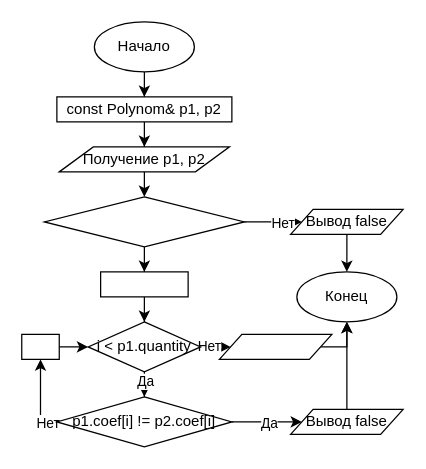
The diagram is 426 pixels wide and 469 high, and some of its shapes have lost their labels. The centre of each missing label's shape, as x and y in pixels:
"i++" belongs at [39,346].
"p1.quantity != p2.quantity" belongs at [143,221].
"Вывод true" belongs at [275,346].
"Число i = 0" belongs at [143,284].
